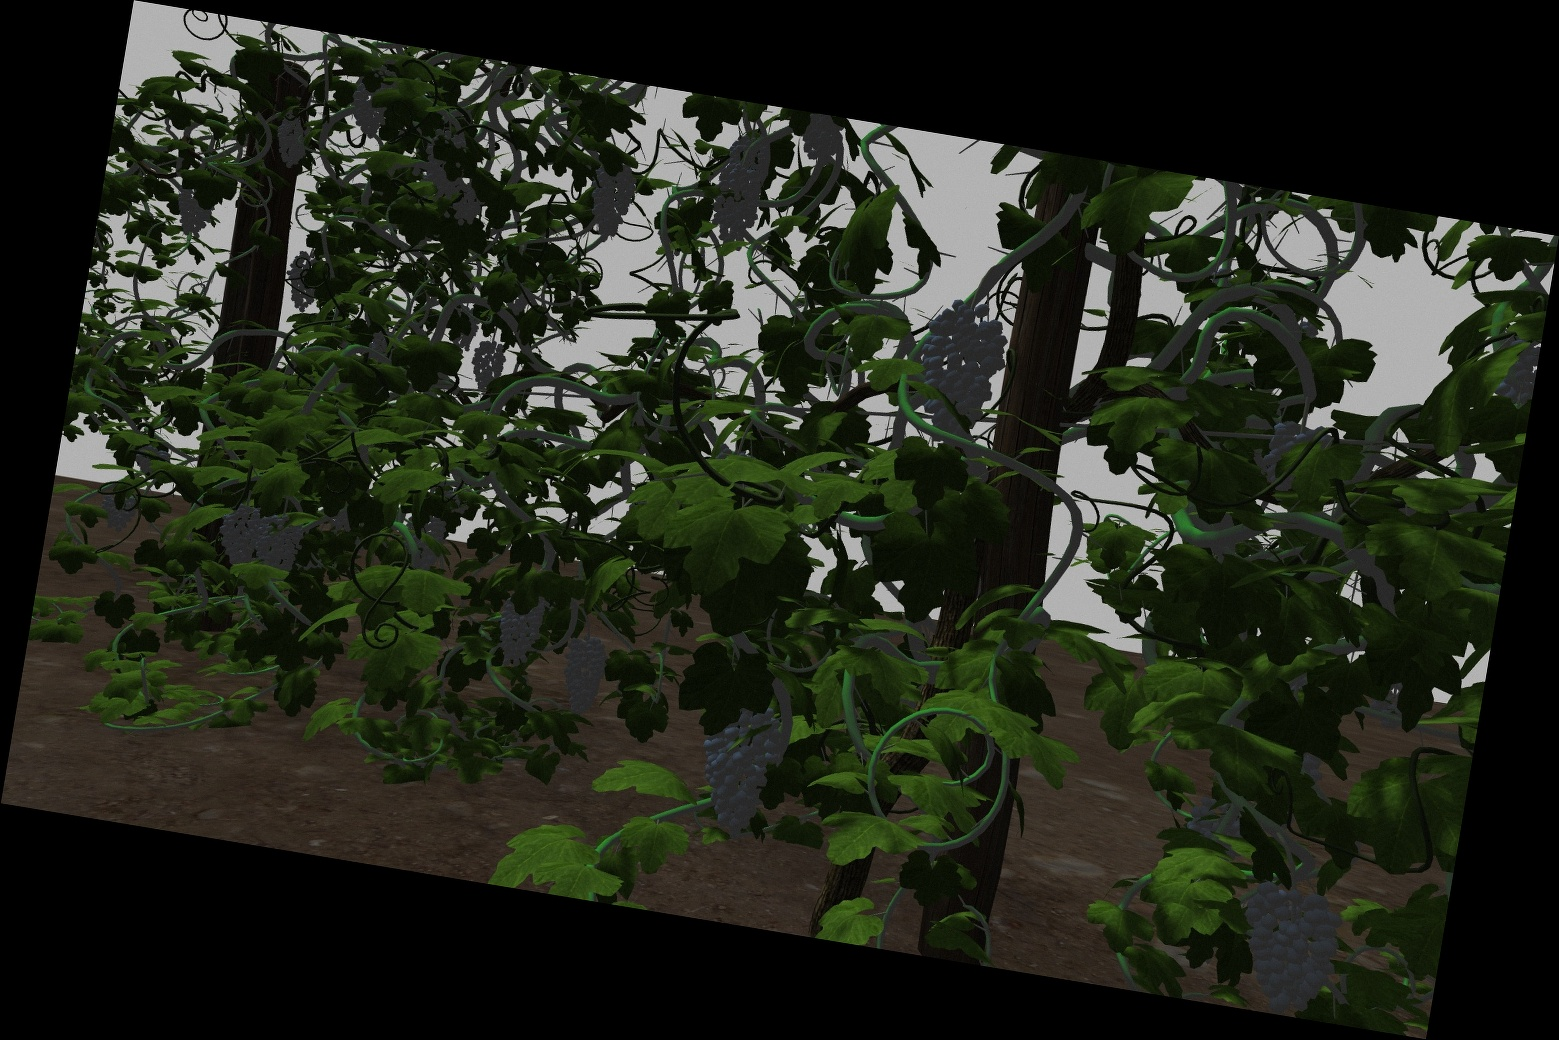grape: (1237, 881, 1340, 1010), (917, 297, 1003, 446), (699, 706, 781, 842), (712, 130, 767, 246), (586, 157, 636, 241), (557, 633, 608, 714), (495, 592, 542, 670), (254, 512, 303, 582), (219, 498, 261, 570), (351, 67, 390, 140), (275, 109, 310, 169), (470, 338, 505, 397), (176, 180, 212, 237), (286, 251, 317, 313), (98, 482, 133, 533)
